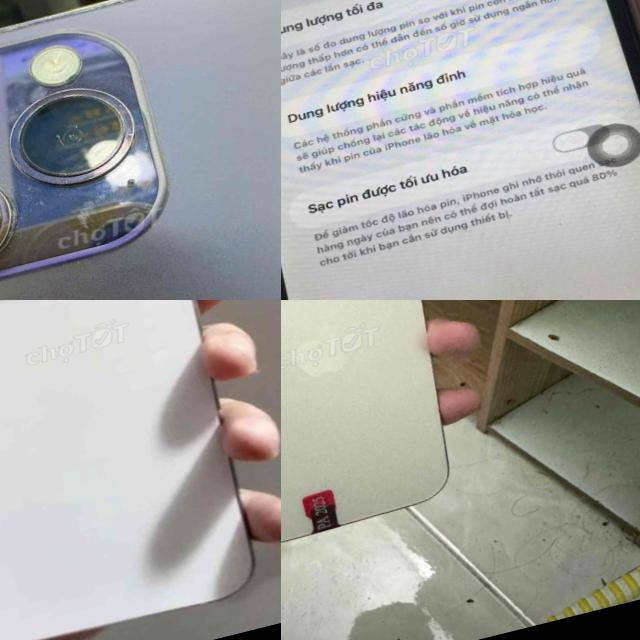gen_11: (281, 0, 640, 300)
gen_12_13: (0, 300, 281, 640)
gen_14: (0, 0, 281, 300)
gen_16: (281, 300, 447, 541)
